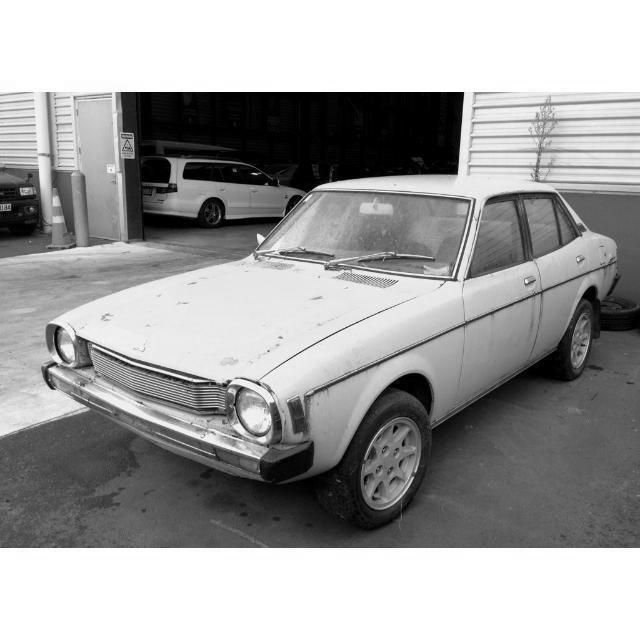bonnet-dent: (99, 261, 355, 368)
doorouter-dent: (459, 280, 544, 385), (528, 239, 599, 341)
